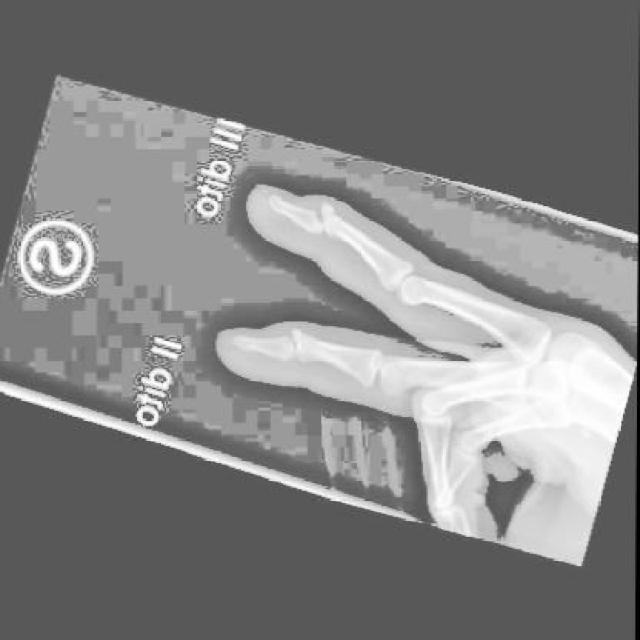Fracture: (305, 196, 335, 236), (277, 323, 305, 357)
